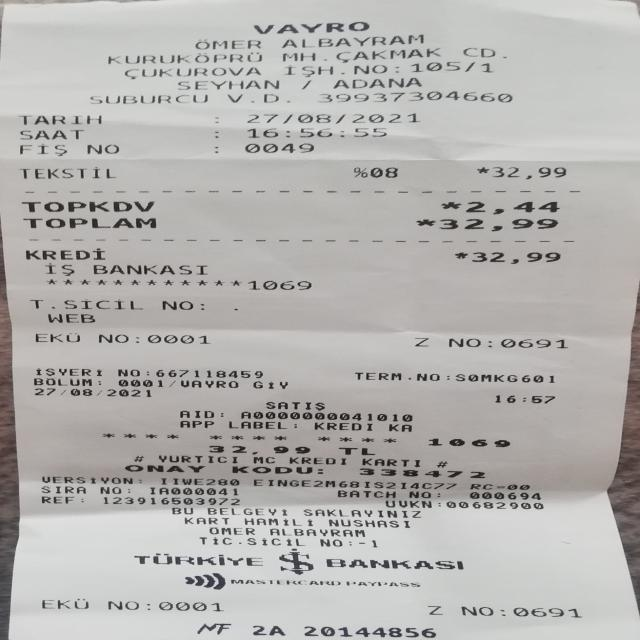text: (327, 552, 462, 576), (136, 548, 260, 572), (252, 478, 458, 489), (316, 91, 512, 102), (277, 34, 428, 48), (245, 112, 420, 124), (351, 371, 518, 383), (105, 53, 264, 64), (440, 217, 555, 232), (241, 412, 412, 422), (305, 625, 433, 638), (23, 217, 155, 229), (21, 201, 152, 212), (252, 21, 370, 33), (122, 67, 260, 77), (91, 263, 205, 275), (102, 496, 238, 506), (29, 298, 141, 310), (464, 200, 559, 214), (87, 93, 204, 104), (358, 468, 484, 478), (472, 250, 560, 264), (333, 49, 442, 60), (156, 368, 261, 379), (303, 508, 418, 518), (244, 128, 386, 136), (209, 444, 307, 455), (41, 474, 130, 486), (34, 388, 151, 397), (282, 64, 387, 74), (25, 247, 104, 260), (20, 168, 111, 179), (178, 79, 278, 89), (492, 166, 566, 179), (449, 500, 543, 510), (269, 528, 363, 538), (331, 78, 423, 88), (226, 578, 338, 586), (206, 506, 286, 517), (150, 486, 236, 496), (408, 62, 493, 72), (160, 476, 237, 487), (428, 438, 512, 448), (18, 128, 82, 141), (328, 518, 408, 528), (252, 278, 308, 292), (504, 337, 568, 349), (226, 92, 288, 104), (158, 600, 220, 612), (518, 606, 580, 618), (158, 455, 240, 464), (148, 333, 208, 345), (35, 367, 100, 378), (244, 516, 311, 526), (242, 143, 315, 152), (192, 40, 263, 49), (19, 115, 90, 124), (233, 466, 312, 474), (18, 143, 66, 156), (34, 377, 90, 388), (46, 312, 94, 324), (496, 394, 552, 404), (360, 458, 422, 467), (125, 465, 204, 472), (226, 421, 287, 430), (242, 537, 303, 546), (314, 422, 374, 431), (468, 492, 542, 499), (337, 489, 394, 498), (346, 580, 418, 587), (42, 597, 87, 608), (288, 457, 349, 465), (459, 47, 496, 60), (178, 380, 238, 388), (279, 50, 313, 63), (40, 484, 84, 494), (209, 526, 253, 536), (183, 516, 226, 526), (264, 402, 325, 409), (86, 143, 118, 156), (44, 263, 76, 276), (522, 373, 558, 384), (252, 624, 284, 636), (387, 499, 429, 508), (119, 379, 163, 387), (338, 446, 373, 456), (448, 337, 479, 348), (252, 380, 286, 390), (98, 332, 126, 344), (108, 598, 136, 610), (180, 418, 210, 429), (369, 166, 396, 178), (198, 536, 230, 546), (161, 299, 189, 310), (179, 410, 212, 419), (439, 200, 460, 214), (460, 605, 486, 616), (41, 495, 72, 504), (416, 217, 434, 231), (117, 367, 138, 378), (470, 482, 490, 492), (171, 506, 191, 516), (100, 485, 119, 495), (320, 538, 341, 547), (388, 424, 411, 432), (386, 62, 401, 74), (252, 456, 274, 464), (505, 484, 533, 490), (358, 540, 379, 548), (353, 166, 366, 178), (314, 49, 325, 63), (427, 604, 441, 615), (409, 490, 428, 498), (476, 166, 487, 179), (300, 78, 311, 89), (452, 252, 468, 259), (416, 337, 426, 348), (134, 453, 142, 463), (500, 606, 508, 616), (487, 337, 494, 348), (198, 300, 205, 310), (143, 599, 149, 610), (438, 458, 444, 468), (292, 422, 298, 431), (496, 482, 502, 491), (212, 128, 217, 138), (212, 144, 217, 154), (212, 112, 216, 124), (438, 500, 444, 508), (218, 412, 224, 419), (317, 466, 321, 476), (170, 378, 172, 389), (348, 538, 350, 548), (436, 490, 438, 499), (147, 368, 148, 378), (139, 476, 140, 485), (81, 496, 81, 504)
